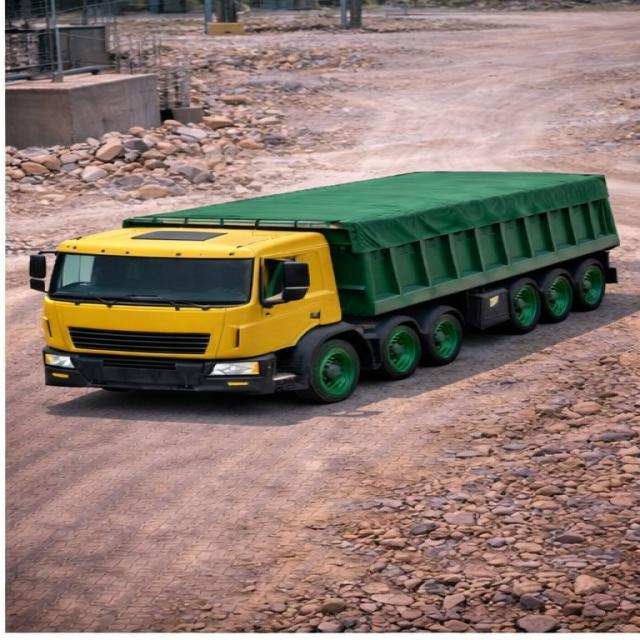trailer: (132, 165, 606, 236)
truck: (24, 157, 618, 409)
